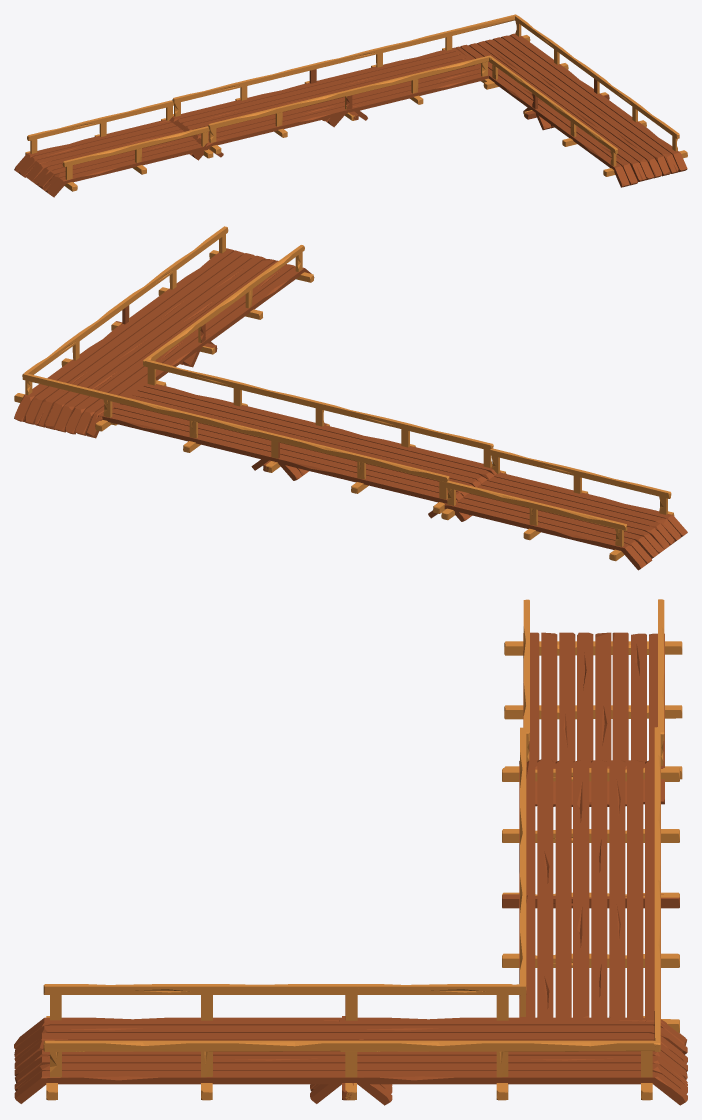
File: bridge04.fbx
3 renders of one model, top to bottom at view 1: azimuth 30°, elevation 25°; view 2: azimuth 150°, elevation 25°; view 3: azimuth 270°, elevation 25°, orthographic. The views are drawn at different scales.
Parts seen in each view (by area): view 1: polySurface1773; view 2: polySurface1773; view 3: polySurface1773.
Boxes of the visible parts, x1,y1,x2,y2 form: polySurface1773: [14, 14, 687, 197]; polySurface1773: [14, 226, 687, 570]; polySurface1773: [14, 599, 687, 1105].
Size of the model in its own units: 1472 by 99.81 by 892.
